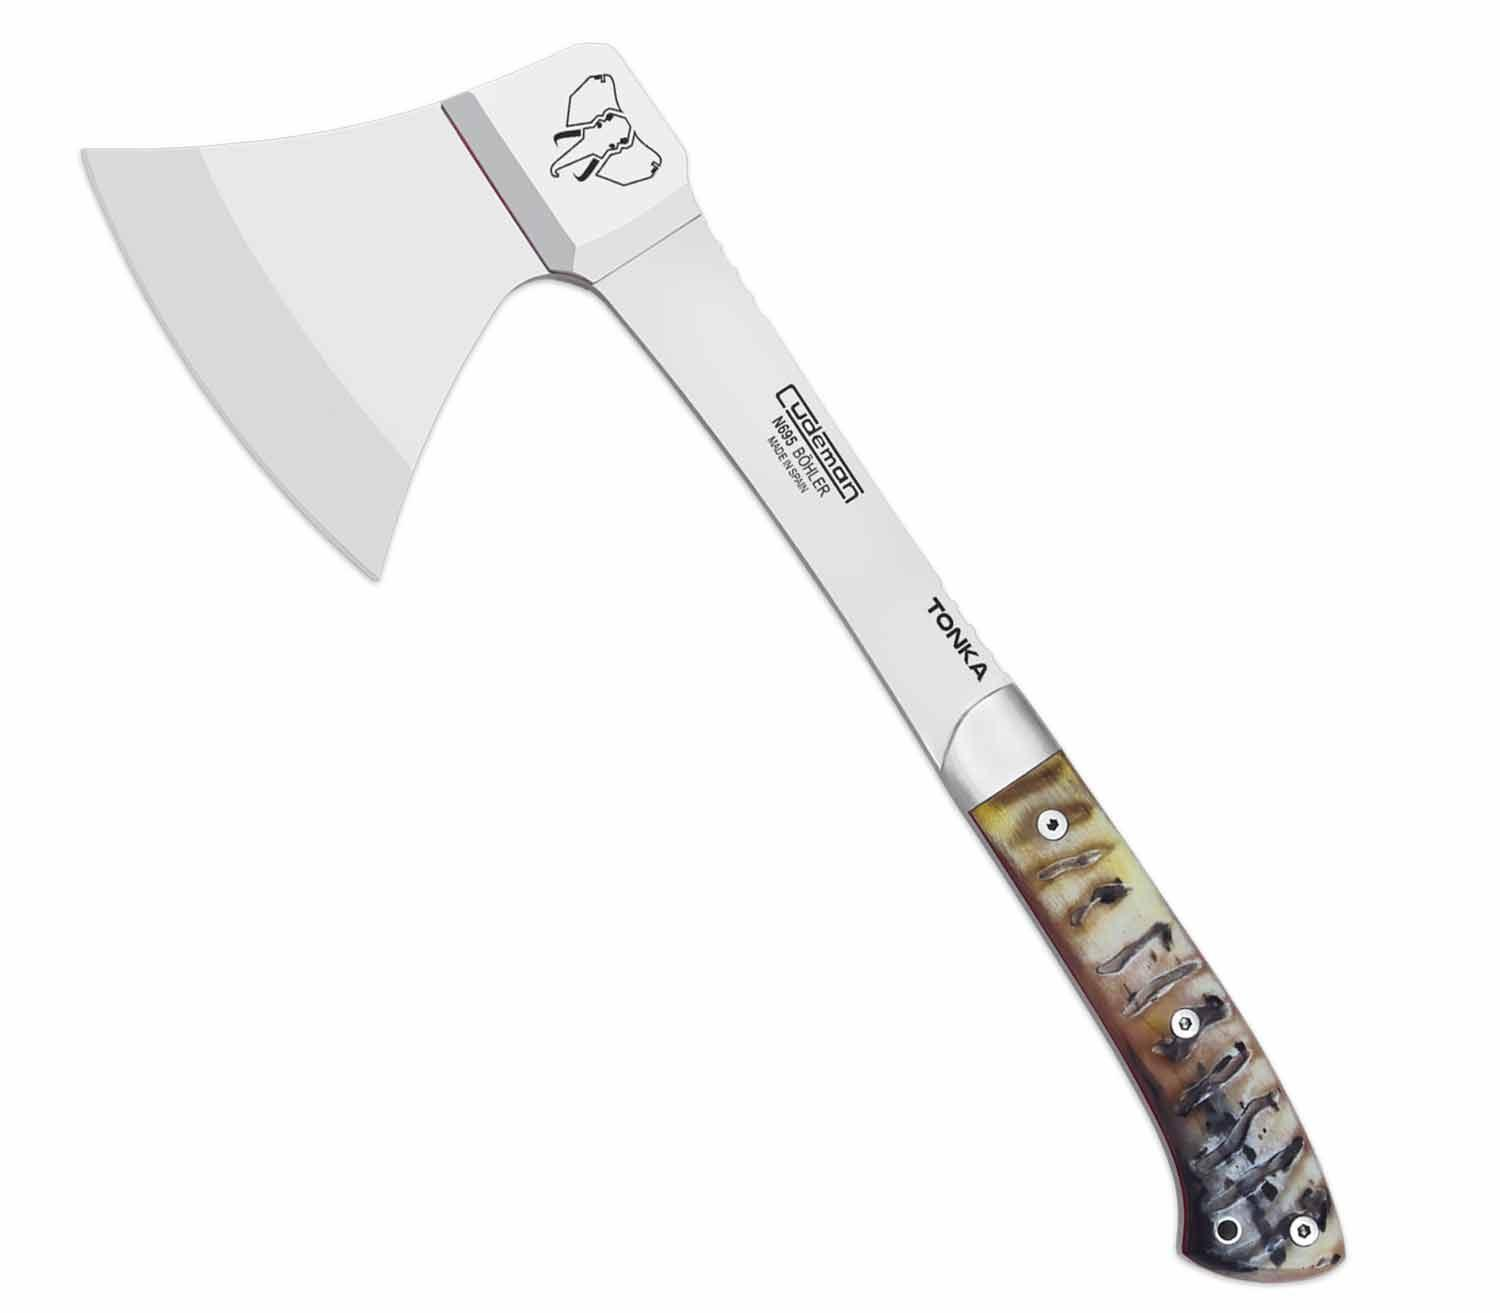machado: (83, 43, 1342, 1280)
